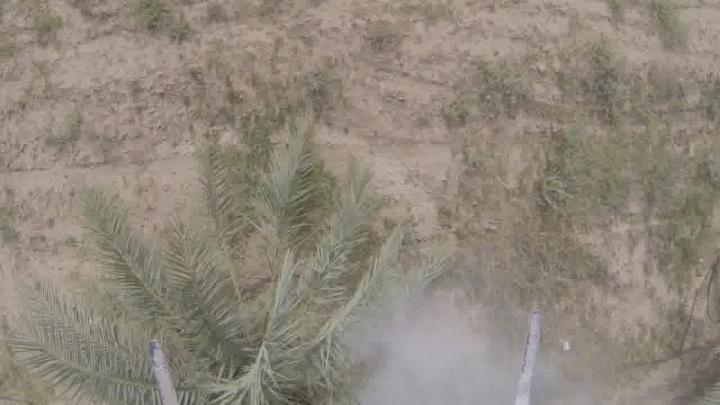Date-Palm-Crown: (124, 204, 400, 404)
